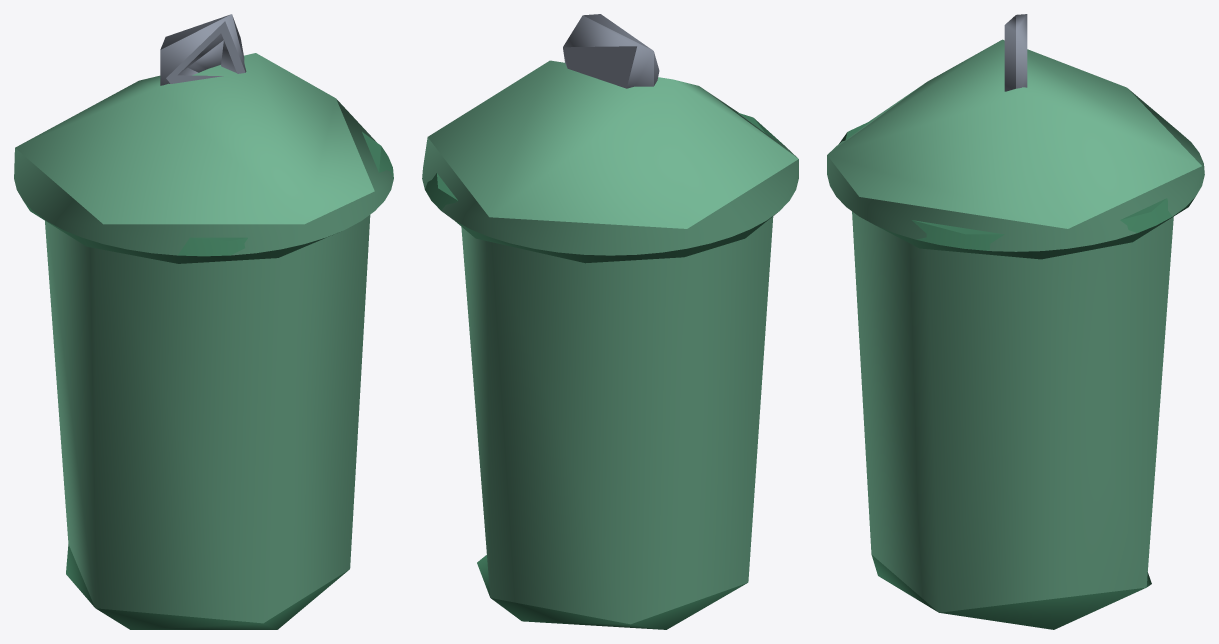
Rendered from trashcan.glb.
3 views of the same model, side by side, from view 1: azimuth 30°, elevation 25°; view 2: azimuth 150°, elevation 25°; view 3: azimuth 270°, elevation 25° (orthographic).
Parts seen in each view (by area): view 1: trashcan; view 2: trashcan; view 3: trashcan.
Boxes of the visible parts, left/top/right/bottom form: trashcan: left=14, top=14, right=393, bottom=629; trashcan: left=422, top=14, right=798, bottom=629; trashcan: left=827, top=14, right=1204, bottom=629.
Bounding box in the file's own units: 0.5193 × 0.8445 × 0.5196.
Materials: 1 (1 with a texture image).
